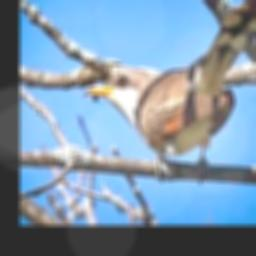Cuckoo: (83, 0, 256, 167)
